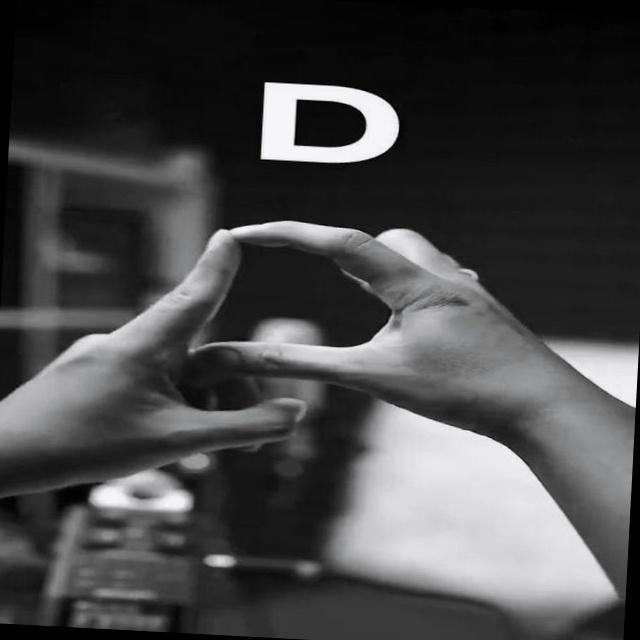D: (144, 192, 453, 454)
